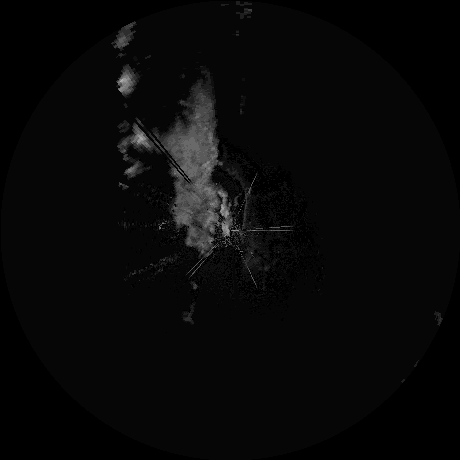frontgust: (227, 165, 250, 230)
